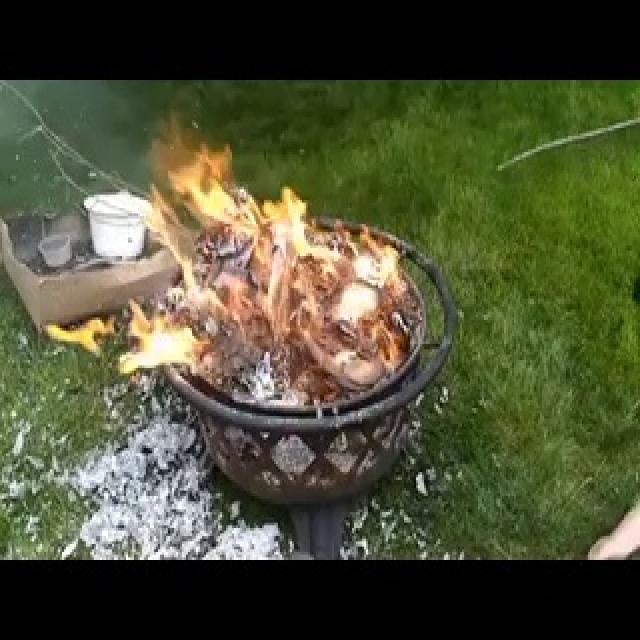fire: (64, 125, 410, 416)
